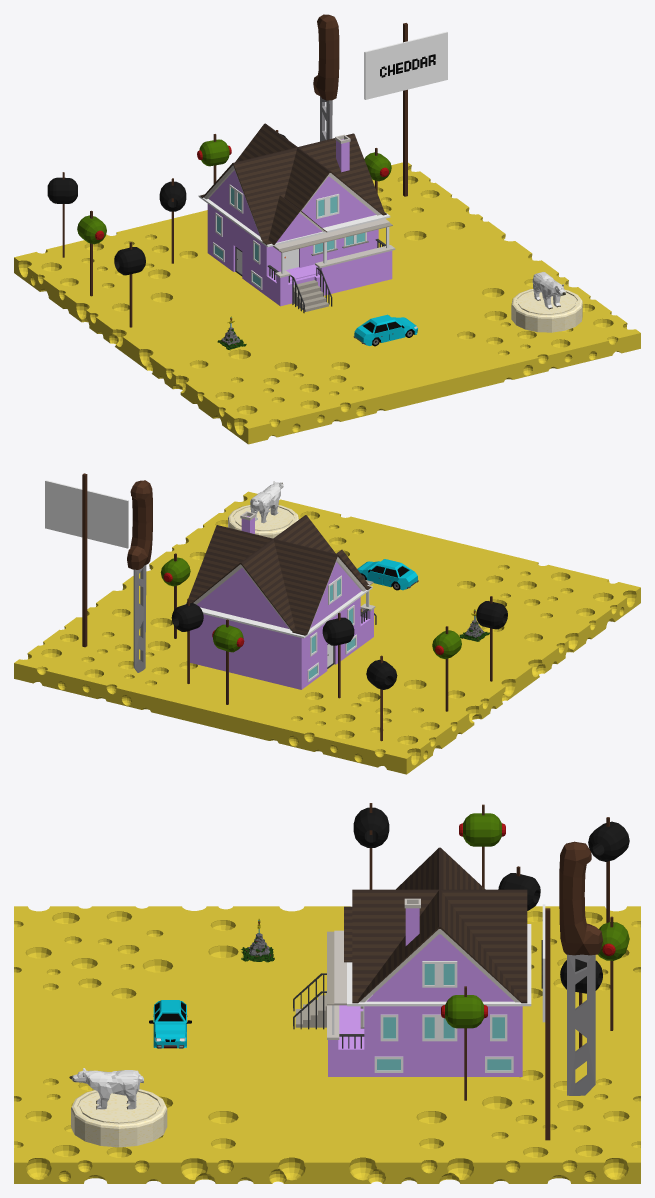
3 renders of one model, top to bottom at view 1: azimuth 30°, elevation 25°; view 2: azimuth 150°, elevation 25°; view 3: azimuth 270°, elevation 25°, orthographic. The views are drawn at different scales.
Visible parts, largest first — view 1: Cube.022, Cube.391, Cube.023, Cylinder.016, Cube.024, VEHICLES_CAR, Sphere.017, Sphere.016, Sphere.020, Sphere.018, Sphere.022, ANIMAL_OSO_POLAR (+1 smaller); view 2: Cube.022, Cube.391, Cube.023, Cube.024, VEHICLES_CAR, Cylinder.016, Sphere.017, Sphere.020, Sphere.021, Sphere.016, Sphere.018, Sphere.022 (+2 smaller); view 3: Cube.022, Cube.391, Cube.024, Cylinder.016, Cube.023, ANIMAL_OSO_POLAR, VEHICLES_CAR, Sphere.019, Sphere.016, Sphere.018, Sphere.017, Sphere.022 (+3 smaller).
Boxes of the visible parts, left/top/right/bottom form: Cube.022: left=14, top=162, right=640, bottom=444; Cube.391: left=198, top=123, right=395, bottom=313; Cube.023: left=364, top=23, right=447, bottom=196; Cylinder.016: left=511, top=289, right=582, bottom=332; Cube.024: left=313, top=14, right=339, bottom=141; VEHICLES_CAR: left=353, top=314, right=417, bottom=346; Sphere.017: left=114, top=242, right=145, bottom=327; Sphere.016: left=47, top=172, right=77, bottom=257; Sphere.020: left=159, top=178, right=186, bottom=263; Sphere.018: left=77, top=210, right=106, bottom=296; Sphere.022: left=197, top=134, right=231, bottom=183; ANIMAL_OSO_POLAR: left=532, top=272, right=565, bottom=309; Cube.022: left=14, top=491, right=640, bottom=774; Cube.391: left=185, top=511, right=376, bottom=689; Cube.023: left=45, top=473, right=128, bottom=647; Cube.024: left=127, top=480, right=152, bottom=672; VEHICLES_CAR: left=357, top=559, right=418, bottom=590; Cylinder.016: left=228, top=505, right=298, bottom=538; Sphere.017: left=476, top=596, right=507, bottom=681; Sphere.020: left=322, top=612, right=354, bottom=698; Sphere.021: left=171, top=598, right=203, bottom=683; Sphere.016: left=366, top=655, right=397, bottom=741; Sphere.018: left=432, top=626, right=461, bottom=711; Sphere.022: left=212, top=619, right=244, bottom=704; Cube.022: left=14, top=906, right=640, bottom=1183; Cube.391: left=293, top=847, right=531, bottom=1076; Cube.024: left=559, top=841, right=602, bottom=1095; Cylinder.016: left=71, top=1089, right=167, bottom=1147; Cube.023: left=541, top=904, right=550, bottom=1140; ANIMAL_OSO_POLAR: left=69, top=1068, right=143, bottom=1109; VEHICLES_CAR: left=149, top=1000, right=191, bottom=1048; Sphere.019: left=441, top=986, right=487, bottom=1100; Sphere.016: left=588, top=817, right=629, bottom=922; Sphere.018: left=459, top=804, right=505, bottom=887; Sphere.017: left=353, top=803, right=389, bottom=889; Sphere.022: left=598, top=916, right=629, bottom=1030.
Bounding box in the file's own units: 3917 × 2010 × 4000.
42 materials, 3 textured.
